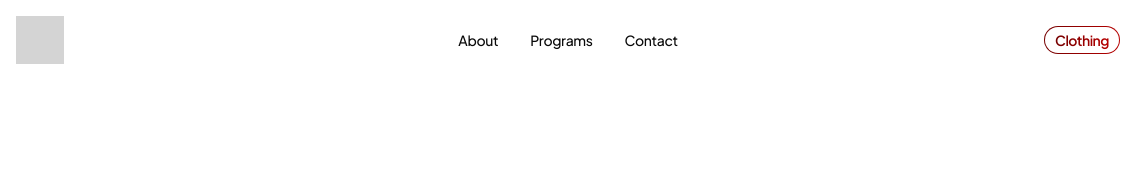
Scenario: Navbar › renders program links in both desktop and mobile views
The width and height of the screenshot is (1137, 174).
Note: Hover to show desktop dropdown
Hover over the button "Programs" at (561, 40), box [530,30,593,50]
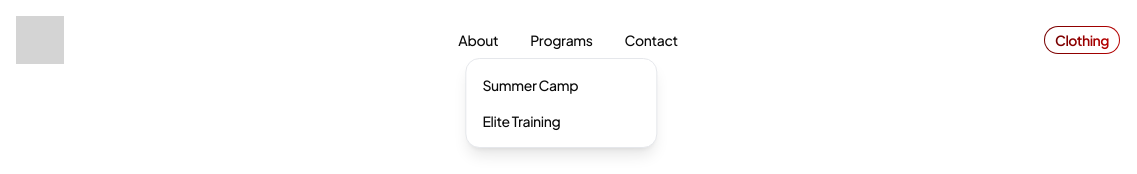
expect the link "Summer Camp" is shown: met, box [482,76,578,94]
expect the link "Elite Training" is shown: met, box [482,112,560,130]
